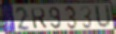2: (15, 6, 32, 33)
3: (65, 4, 78, 31), (80, 5, 94, 30)
9: (49, 7, 62, 30)
R: (30, 7, 48, 30)
U: (94, 5, 113, 30)
